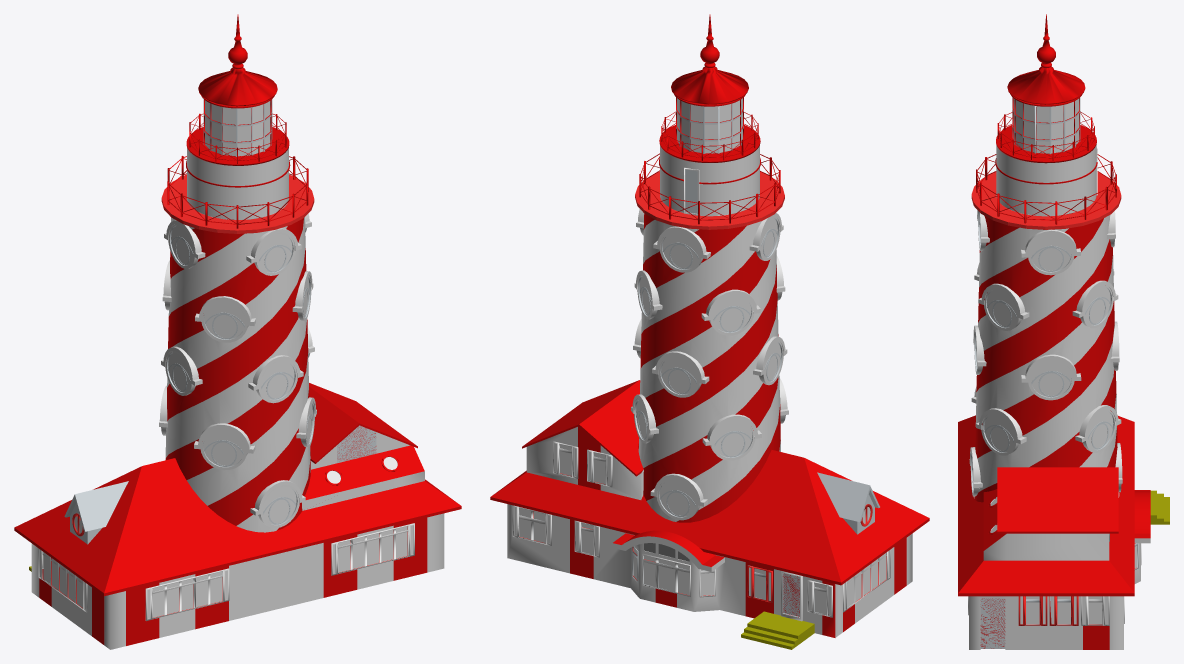
File: PoolesLightHouse.fbx
3 renders of one model, left to right at view 1: azimuth 30°, elevation 25°; view 2: azimuth 150°, elevation 25°; view 3: azimuth 270°, elevation 25°, orthographic.
Parts seen in each view (by area): view 1: Roof, Spiral, Structure, Eyes_LP, Top_Structure, Windows, Landings, Sills, Top, Upper_Windows_New, Railings; view 2: Roof, Spiral, Structure, Eyes_LP, Sills, Windows, Top_Structure, Landings, Top, Upper_Windows_New, Railings, Steps (+3 smaller); view 3: Spiral, Roof, Eyes_LP, Structure, Top_Structure, Landings, Sills, Top, Upper_Windows_New, Railings, Doors, Windows (+3 smaller).
Boxes of the visible parts, x1,y1,x2,y2 form: Roof: (14, 383, 461, 596); Spiral: (165, 209, 310, 532); Structure: (31, 425, 444, 649); Eyes_LP: (159, 213, 316, 528); Top_Structure: (186, 147, 290, 219); Windows: (42, 457, 407, 617); Landings: (161, 127, 314, 233); Sills: (38, 99, 414, 620); Top: (198, 14, 277, 108); Upper_Windows_New: (205, 100, 270, 156); Railings: (167, 113, 308, 228); Roof: (490, 380, 929, 585); Spiral: (638, 210, 780, 522); Structure: (507, 426, 912, 637); Eyes_LP: (631, 209, 788, 520); Sills: (512, 97, 890, 621); Windows: (519, 444, 886, 614); Top_Structure: (659, 145, 760, 215); Landings: (635, 125, 784, 229); Top: (671, 14, 748, 106); Upper_Windows_New: (677, 98, 742, 153); Railings: (639, 111, 780, 224); Steps: (741, 611, 814, 649); Spiral: (974, 209, 1117, 502); Roof: (958, 415, 1134, 596); Eyes_LP: (969, 210, 1122, 496); Structure: (969, 533, 1140, 649); Top_Structure: (995, 145, 1097, 215); Landings: (971, 125, 1121, 229); Sills: (968, 97, 1141, 625); Top: (1007, 14, 1085, 106); Upper_Windows_New: (1013, 98, 1079, 153); Railings: (976, 111, 1116, 224); Doors: (980, 598, 1005, 648); Windows: (990, 497, 1137, 624).
Size of the model in its own units: 144 by 219 by 75.46.
